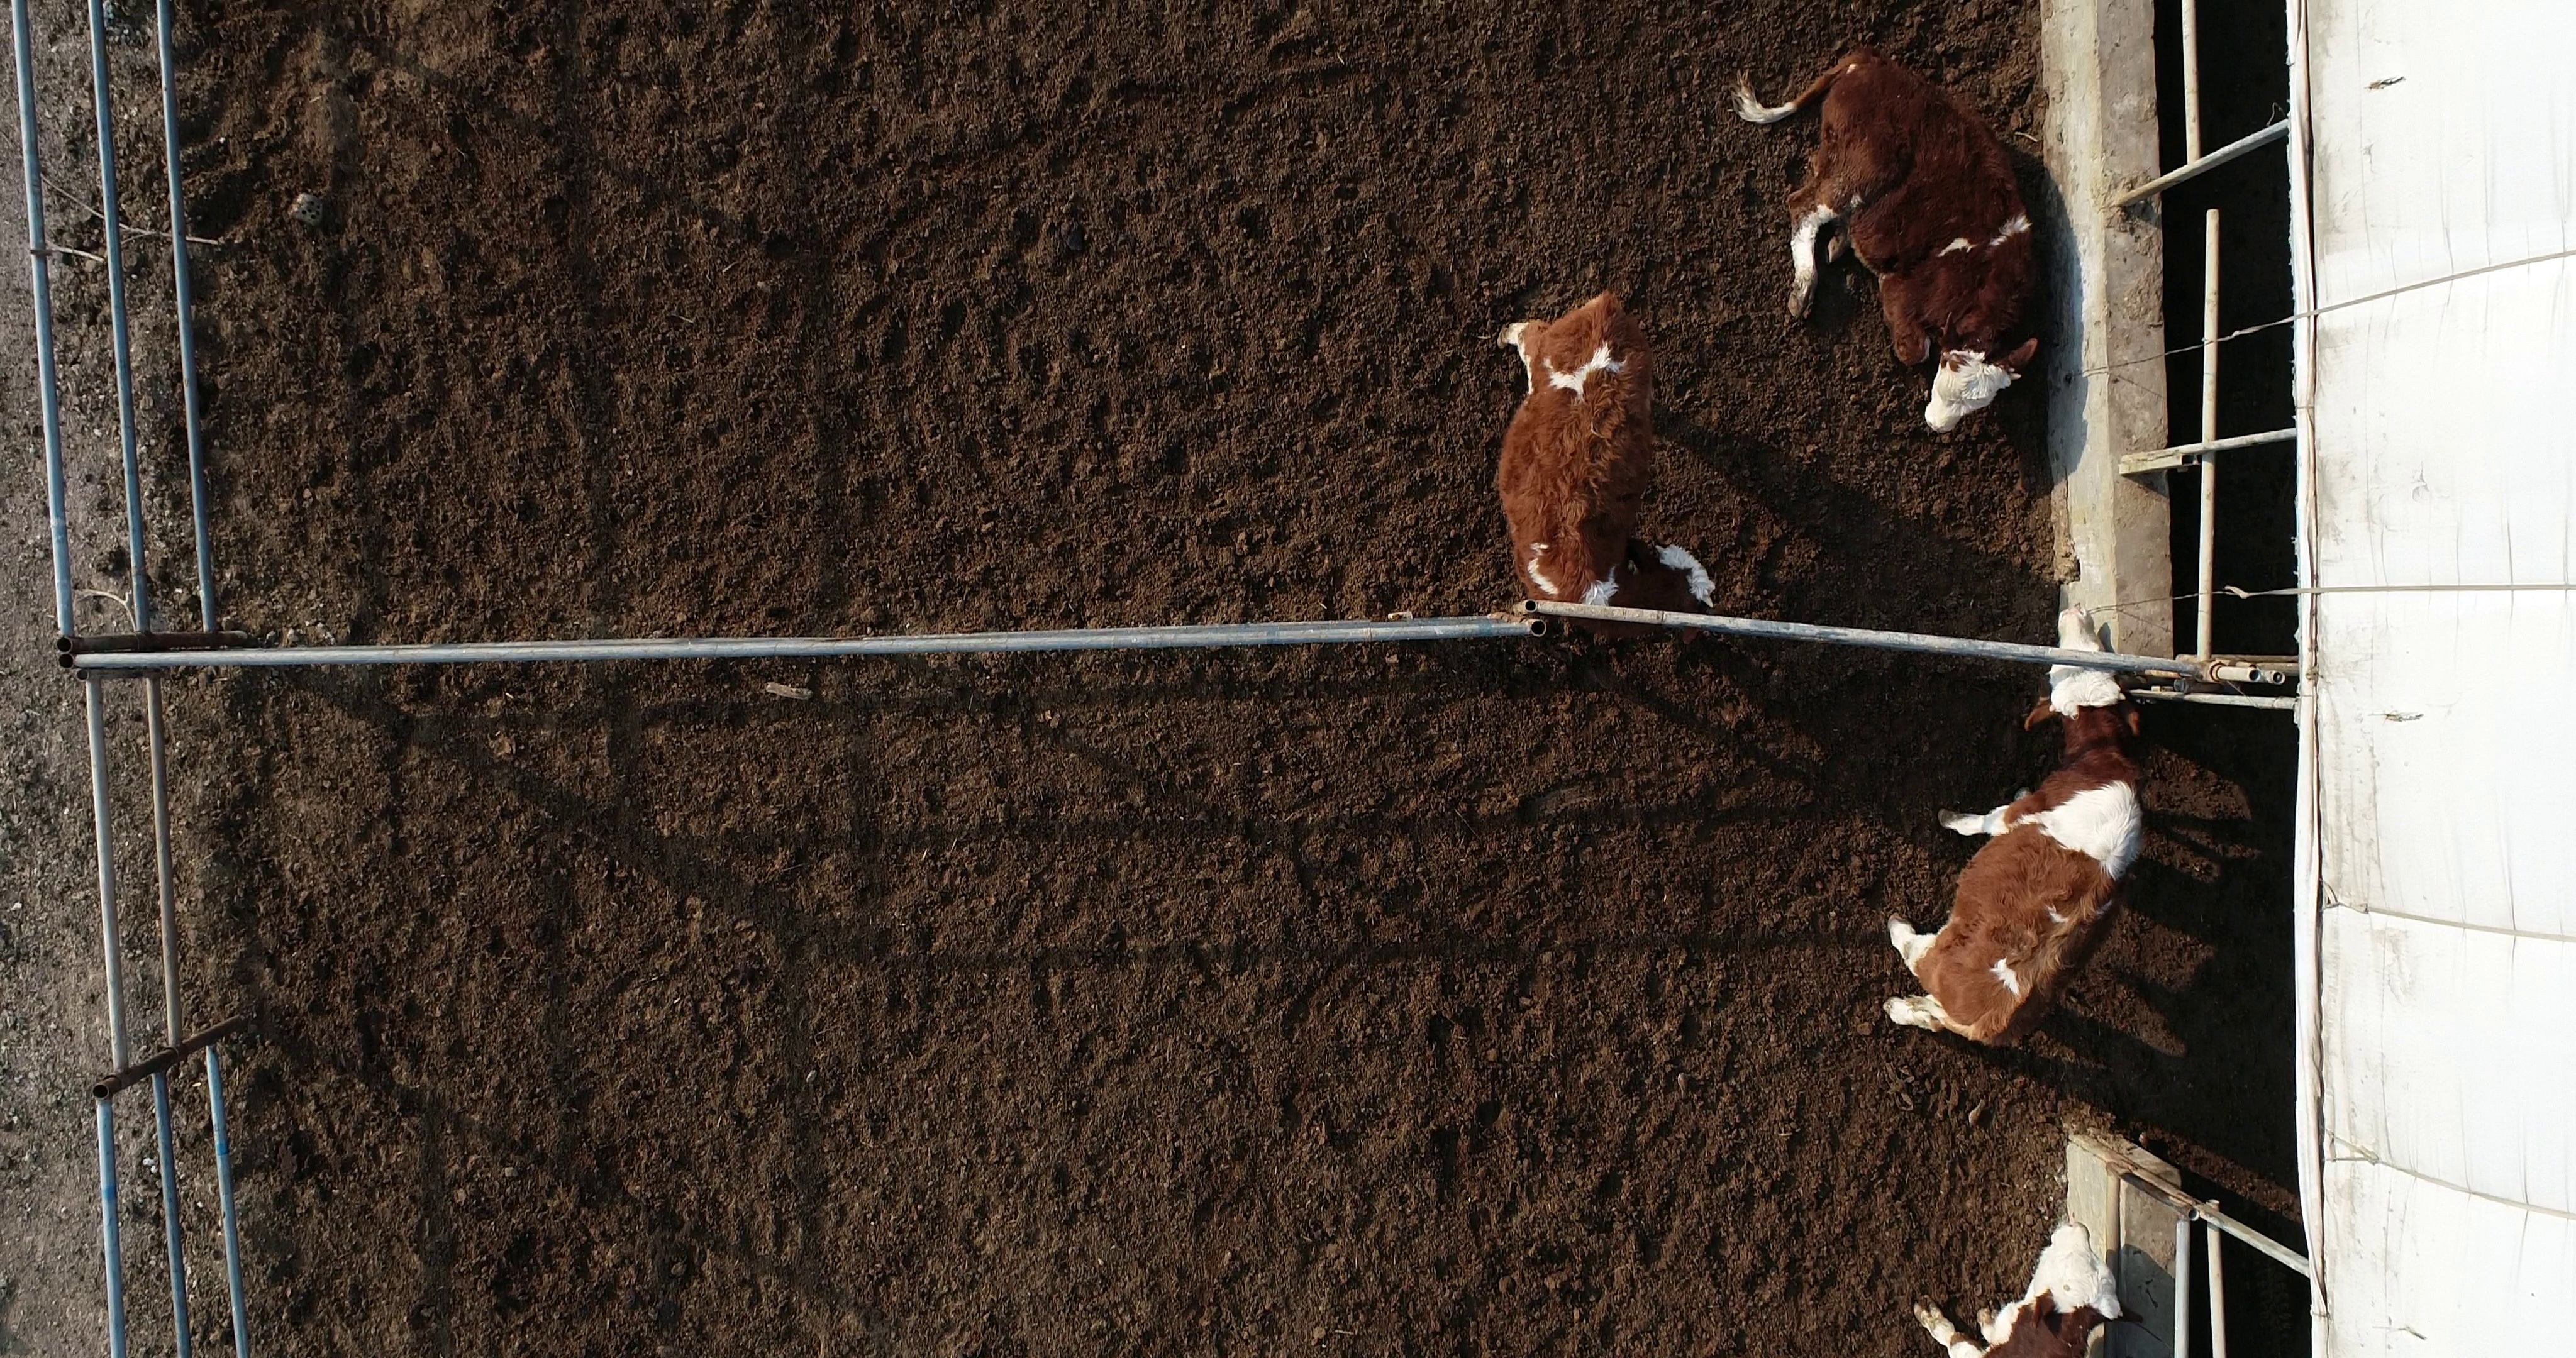cattle: (1728, 43, 2067, 440), (1874, 600, 2157, 1053), (1487, 288, 1722, 617)
